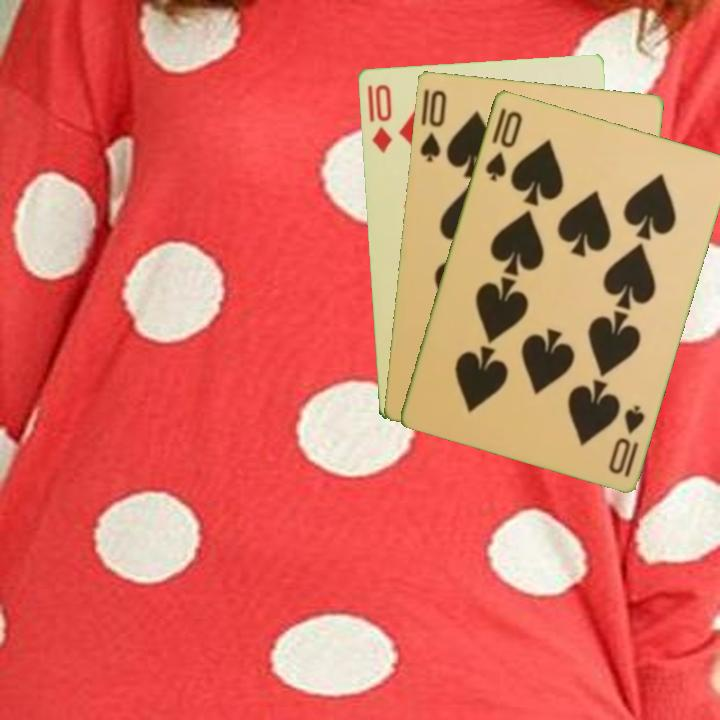10d: (363, 80, 395, 156)
10s: (604, 401, 648, 480), (481, 107, 525, 184), (416, 86, 449, 165)
